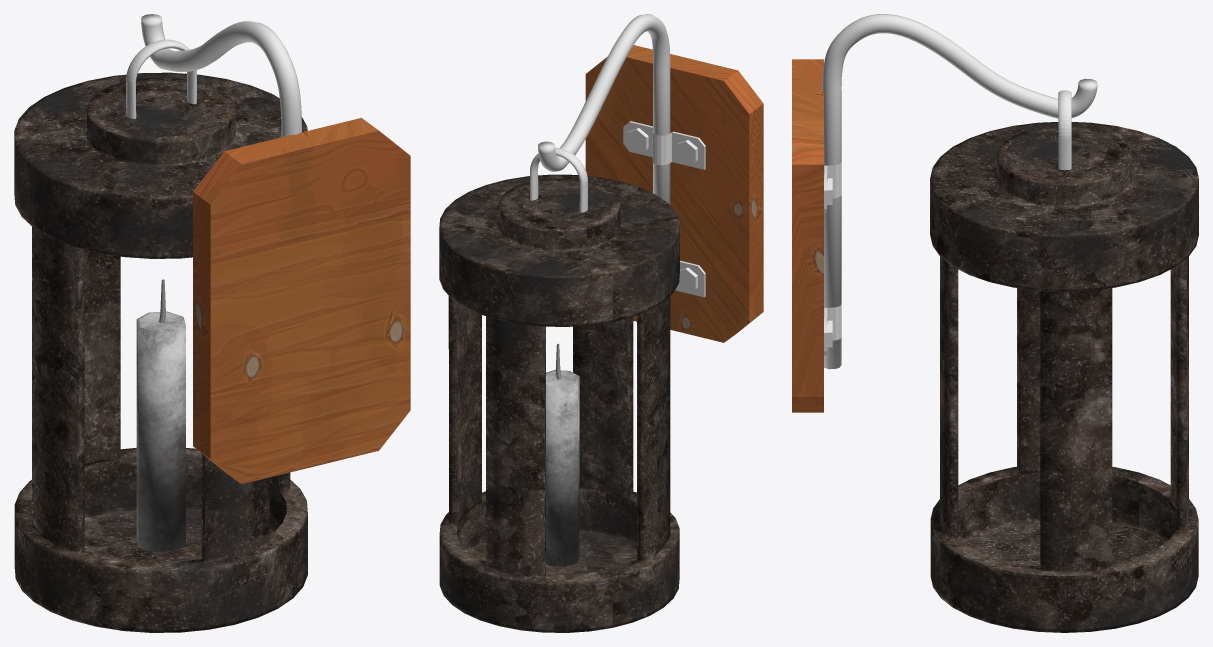
Rendered from Lampu Fix.fbx.
3 renders of one model, left to right at view 1: azimuth 30°, elevation 25°; view 2: azimuth 150°, elevation 25°; view 3: azimuth 270°, elevation 25°, orthographic. The views are drawn at different scales.
Visible parts, largest first — view 1: Circle, Plane, Cylinder.003, BezierCurve, Cylinder.001; view 2: Circle, Plane, Cylinder.003, BezierCurve, Plane.001, Cylinder.001, Plane.002; view 3: Circle, Plane, BezierCurve, Cylinder.001, Plane.002.
Part boxes in pixels (x1,y1,x2,y2): Circle: (14, 72, 307, 632); Plane: (193, 118, 410, 484); Cylinder.003: (136, 311, 185, 552); BezierCurve: (141, 14, 301, 137); Cylinder.001: (126, 39, 196, 118); Circle: (439, 174, 679, 632); Plane: (585, 45, 763, 342); Cylinder.003: (546, 370, 579, 566); BezierCurve: (538, 14, 670, 205); Plane.001: (623, 121, 705, 169); Cylinder.001: (530, 147, 587, 212); Plane.002: (675, 260, 705, 297); Circle: (930, 122, 1198, 632); Plane: (792, 59, 823, 412); BezierCurve: (822, 14, 1097, 369); Cylinder.001: (1058, 90, 1071, 170); Plane.002: (824, 304, 841, 355).
Bounding box in the file's own units: 514 × 1186 × 778.
